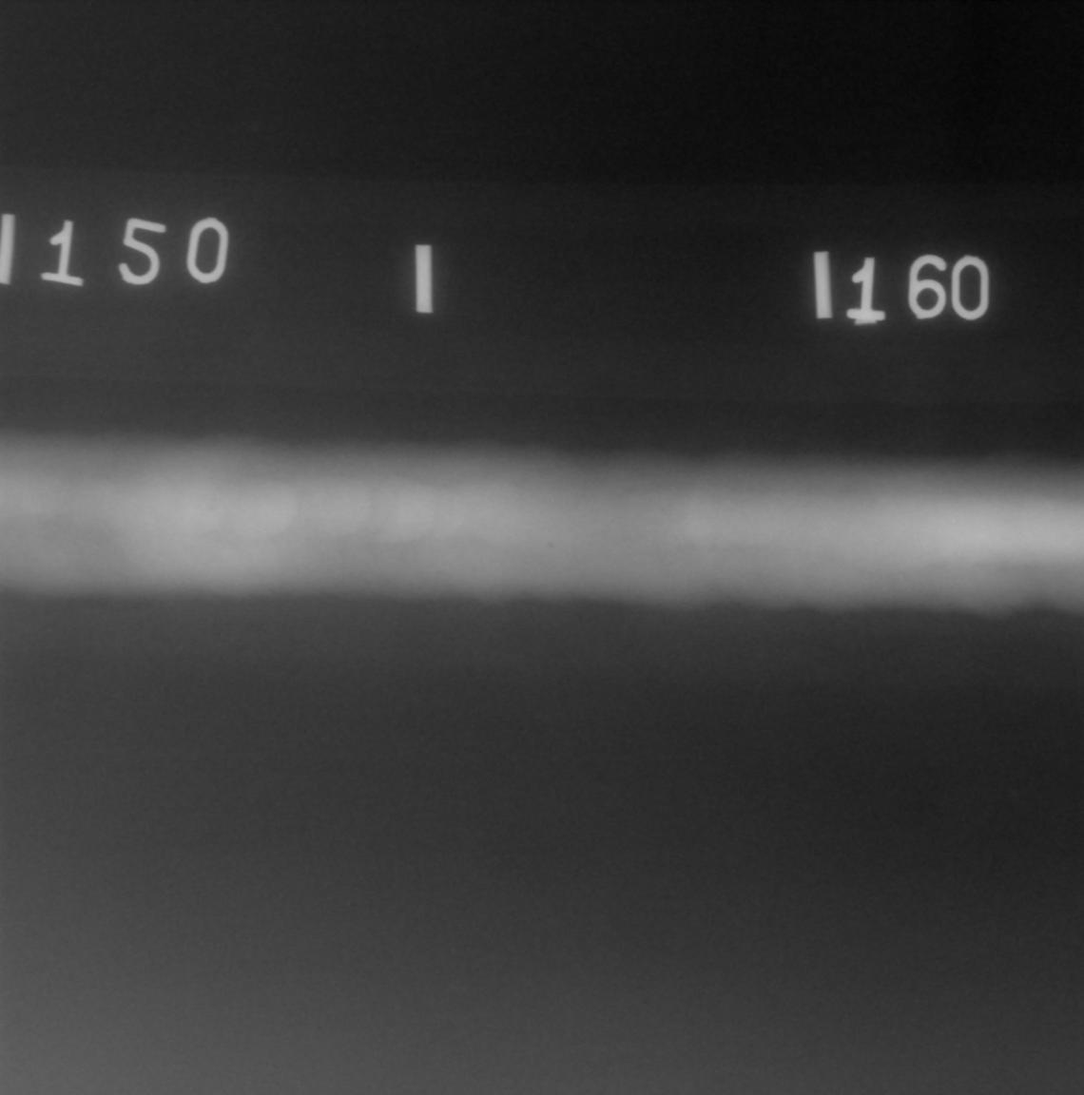Pore/Porosity: (208, 499, 217, 511), (548, 542, 553, 548), (581, 493, 587, 498), (305, 519, 309, 521)
